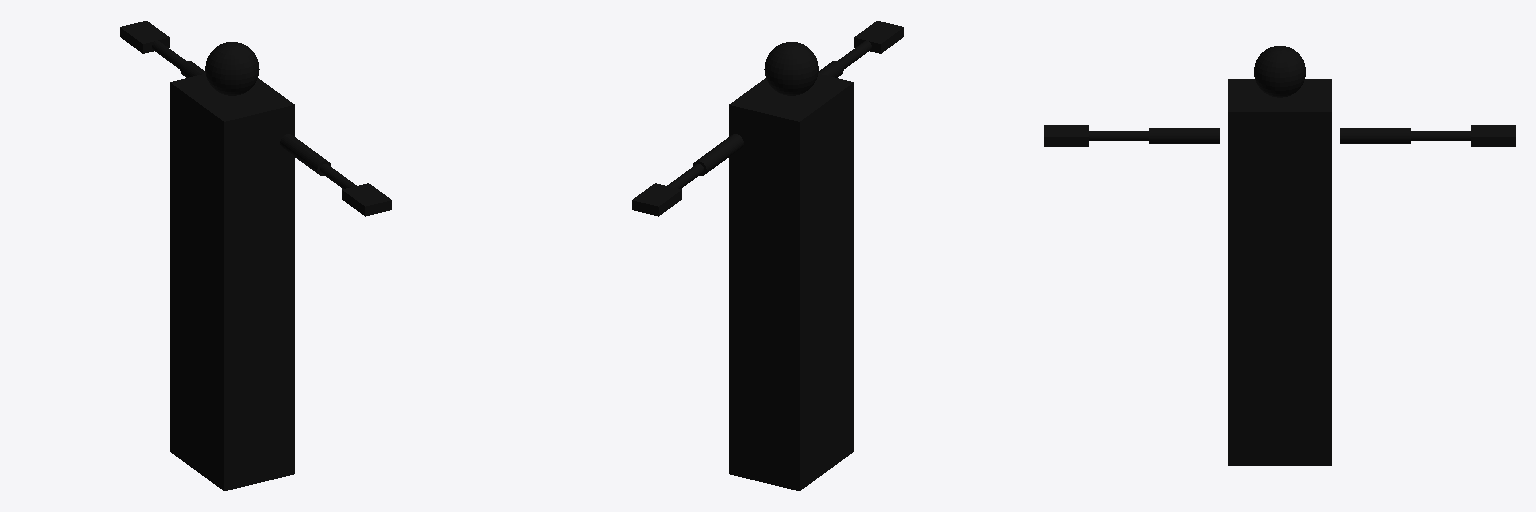
The robot description file, URDF, robot "human_model":
<!--URDF MODEL 48 DoFs-->

<robot name="human_model">

<material name="color">
    <color rgba="0.1 0.1 0.1 1"/>
</material>

    <!--LINKS-->
	<!--Link base (1)-->
	<link name="Truck">
        <inertial>
            <mass value="60.352"/>
            <origin xyz="0 0 0" rpy="0 0 0" />
            <inertia ixx="0.064101" iyy="0.023834" izz="0.07276" ixy="0" ixz="0" iyz="0"/>
        </inertial>

        <visual>
            <origin xyz="0 0 0" rpy="0 0 0" />
            <geometry>
                <box size="0.3 0.4 1.5"/>
            </geometry>
            <material name="color"/>
        </visual>

        <collision>
            <origin xyz="0 0 0" rpy="0 0 0" />
            <geometry>
                <box size="0.3 0.4 1.5"/>
            </geometry>
        </collision>
    </link>



    <link name="Head">
        <inertial>
            <mass value="2.8584"/>
            <origin xyz="0 0 0" rpy="0 0 0" />
            <inertia ixx="0.0144" iyy="0.0144" izz="0.0144" ixy="0" ixz="0" iyz="0"/>
        </inertial>

        <visual>
			
            <origin xyz="0 0 0" rpy="0 0 0" />
            <geometry>
                <sphere radius="0.1"/>
            </geometry>
            <material name="color"/>
        </visual>

        <collision>
            <origin xyz="0 0 0" rpy="0 0 0" />
            <geometry>
                <sphere radius="0.1"/>
            </geometry>
        </collision>
    </link>

    <joint name="head_to_truck" type="fixed">
        <origin xyz="0 0 0.85" rpy="0 0 0"/>
        <parent link="Truck"/>
        <child link="Head"/>
    </joint>


    <!-- ++++++++ -->
    <!-- + Left + -->
    <!-- ++++++++ -->

    <link name="LeftUpperArm_f1">
        <inertial>
            <mass value="2.382"/>
            <origin xyz="0 0 0" rpy="0 0 0" />
            <inertia ixx="0.015417" iyy="0.0010729" izz="0.015417" ixy="0" ixz="0" iyz="0"/>
        </inertial>
    </link>

	<link name="LeftUpperArm_f2">
        <inertial>
            <mass value="2.382"/>
            <origin xyz="0 0 0" rpy="0 0 0" />
            <inertia ixx="0.015417" iyy="0.0010729" izz="0.015417" ixy="0" ixz="0" iyz="0"/>
        </inertial>
    </link>

	<link name="LeftUpperArm">
        <inertial>
            <mass value="2.382"/>
            <origin xyz="0 0.1369 0" rpy="0 0 0" />
            <inertia ixx="0.015417" iyy="0.0010729" izz="0.015417" ixy="0" ixz="0" iyz="0"/>
        </inertial>

        <visual>
            <origin xyz="0 0.1369 0" rpy="1.5708 0 0" />
            <geometry>
                <cylinder length="0.27379" radius="0.030014"/>
            </geometry>
            <material name="color"/>
        </visual>

        <collision>
            <origin xyz="0 0.1369 0" rpy="1.5708 0 0" />
            <geometry>
                <cylinder length="0.27379" radius="0.030014"/>
            </geometry>
        </collision>
    </link>

    <link name="LeftForeArm_f1">
        <inertial>
            <mass value="1.588"/>
            <origin xyz="0     0.11359           0" rpy="0 0 0" />
            <inertia ixx="0.0069888" iyy="0.0003179" izz="0.0069888" ixy="0" ixz="0" iyz="0"/>
        </inertial>
    </link>
	<link name="LeftForeArm">
        <inertial>
            <mass value="1.588"/>
			<!--COM origin wrt jLeftElbow-->
            <origin xyz="0     0.11359           0" rpy="0 0 0" />
            <inertia ixx="0.0069888" iyy="0.0003179" izz="0.0069888" ixy="0" ixz="0" iyz="0"/>
        </inertial>

        <visual>
			<!--box origin wrt jLeftElbow. RPY rotated of pi/2.-->
            <origin xyz="0     0.11359           0" rpy="1.5708 0 0" />
            <geometry>
                <cylinder length="0.22718" radius="0.020009"/>
            </geometry>
            <material name="color"/>
        </visual>

        <collision>
			<!--box origin wrt jLeftElbow. RPY rotated of pi/2.-->
            <origin xyz="0     0.11359           0" rpy="1.5708 0 0" />
            <geometry>
                <cylinder length="0.22718" radius="0.020009"/>
            </geometry>
        </collision>

    </link>
    <link name="LeftHand_f1">
        <inertial>
            <mass value="0.4764"/>
            <origin xyz="0    0.086009           0" rpy="0 0 0" />
            <inertia ixx="0.0012383" iyy="0.00058568" izz="0.0016968" ixy="0" ixz="0" iyz="0"/>
        </inertial>
    </link>
	<link name="LeftHand">
        <inertial>
            <mass value="0.4764"/>
			<!--COM origin wrt jLeftWrist-->
            <origin xyz="0    0.086009           0" rpy="0 0 0" />
            <inertia ixx="0.0012383" iyy="0.00058568" izz="0.0016968" ixy="0" ixz="0" iyz="0"/>
        </inertial>

        <visual>
			<!--COM origin wrt jLeftWrist-->
            <origin xyz="0    0.086009           0" rpy="0 0 0" />
            <geometry>
                <box size="0.11468     0.17202    0.040019"/>
            </geometry>
            <material name="color"/>
        </visual>

        <collision>
			<!--COM origin wrt jLeftWrist-->
            <origin xyz="0    0.086009           0" rpy="0 0 0" />
            <geometry>
                <box size="0.11468     0.17202    0.040019"/>
            </geometry>
        </collision>

    </link>


    <joint name="jLeftShoulder_rotx" type="revolute">
        <origin xyz="0.1 0.23 0.625" rpy="0 0 0"/>
        <parent link="Truck"/>
        <child link="LeftUpperArm_f1"/>
        <dynamics damping="0.1" friction="0.0"/>
        <limit effort="30" velocity="1.0" lower="-1.5708" upper="2.35619" />
        <axis xyz="1 0 0" />
    </joint>
	<joint name="jLeftShoulder_roty" type="revolute">
        <origin xyz="0 0 0" rpy="0 0 0"/>
        <parent link="LeftUpperArm_f1"/>
        <child link="LeftUpperArm_f2"/>
        <dynamics damping="0.1" friction="0.0"/>
        <limit effort="30" velocity="1.0" lower="-1.5708" upper="1.5708" />
        <axis xyz="0 1 0" />
    </joint>
    <joint name="jLeftShoulder_rotz" type="revolute">
        <origin xyz="0 0 0" rpy="0 0 0"/>
        <parent link="LeftUpperArm_f2"/>
        <child link="LeftUpperArm"/>
        <dynamics damping="0.1" friction="0.0"/>
        <limit effort="30" velocity="1.0" lower="-3.14159" upper="0.785398" />
        <axis xyz="0 0 1" />
    </joint>

    <joint name="jLeftElbow_roty" type="revolute">
        <origin xyz="0     0.27379           0" rpy="0 0 0"/>
        <parent link="LeftUpperArm"/>
        <child link="LeftForeArm_f1"/>
        <dynamics damping="0.1" friction="0.0"/>
        <limit effort="30" velocity="1.0" lower="-1.5708" upper="1.48353" />
        <axis xyz="0 1 0" />
    </joint>
    <joint name="jLeftElbow_rotz" type="revolute">
        <origin xyz="0 0 0" rpy="0 0 0"/>
        <parent link="LeftForeArm_f1"/>
        <child link="LeftForeArm"/>
        <dynamics damping="0.1" friction="0.0"/>
        <limit effort="30" velocity="1.0" lower="-2.53073" upper="0" />
        <axis xyz="0 0 1" />
    </joint>
    <joint name="jLeftWrist_rotx" type="revolute">
        <origin xyz="0.000133     0.22718           0" rpy="0 0 0"/>
        <parent link="LeftForeArm"/>
        <child link="LeftHand_f1"/>
        <dynamics damping="0.1" friction="0.0"/>
        <limit effort="30" velocity="1.0" lower="-1.0472" upper="0.872665" />
        <axis xyz="1 0 0" />
    </joint>
	<joint name="jLeftWrist_rotz" type="revolute">
        <origin xyz="0 0 0" rpy="0 0 0"/>
        <parent link="LeftHand_f1"/>
        <child link="LeftHand"/>
        <dynamics damping="0.1" friction="0.0"/>
        <limit effort="30" velocity="1.0" lower="-0.349066" upper="0.523599" />
        <axis xyz="0 0 1" />
    </joint>


   
    <!-- +++++++++ -->
    <!-- + Right + -->
    <!-- +++++++++ -->
    <link name="RightUpperArm_f1">
        <inertial>
            <mass value="2.382"/>
            <origin xyz="0 0 0" rpy="0 0 0" />
            <inertia ixx="0.015417" iyy="0.0010729" izz="0.015417" ixy="0" ixz="0" iyz="0"/>
        </inertial>
    </link>
	<link name="RightUpperArm_f2">
        <inertial>
            <mass value="2.382"/>
            <origin xyz="0 0 0" rpy="0 0 0" />
            <inertia ixx="0.015417" iyy="0.0010729" izz="0.015417" ixy="0" ixz="0" iyz="0"/>
        </inertial>
    </link>
    <link name="RightUpperArm">
        <inertial>
            <mass value="2.382"/>
			<!--COM origin wrt jRightShoulder-->
            <origin xyz="0     -0.1369           0" rpy="0 0 0" />
            <inertia ixx="0.015417" iyy="0.0010729" izz="0.015417" ixy="0" ixz="0" iyz="0"/>
        </inertial>
        <visual>
            <origin xyz="0     -0.1369           0" rpy="1.5708 0 0" />
            <geometry>
                <cylinder length="0.27379" radius="0.030014"/>
            </geometry>
            <material name="color"/>
        </visual>

        <collision>
            <origin xyz="0     -0.1369           0" rpy="1.5708 0 0" />
            <geometry>
                <cylinder length="0.27379" radius="0.030014"/>
            </geometry>
        </collision>

    </link>

    <link name="RightForeArm_f1">
        <inertial>
            <mass value="1.588"/>
            <origin xyz="0 0 0" rpy="0 0 0" />
            <inertia ixx="0.0069888" iyy="0.0003179" izz="0.0069888" ixy="0" ixz="0" iyz="0"/>
        </inertial>
    </link>
	<link name="RightForeArm">
        <inertial>
            <mass value="1.588"/>
			<!--COM origin wrt jRightElbow-->
            <origin xyz="0    -0.11359           0" rpy="0 0 0" />
            <inertia ixx="0.0069888" iyy="0.0003179" izz="0.0069888" ixy="0" ixz="0" iyz="0"/>
        </inertial>

        <visual>
			<!--box origin wrt jRightElbow. RPY rotated of pi/2.-->
            <origin xyz="0    -0.11359           0" rpy="1.5708 0 0" />
            <geometry>
                <cylinder length="0.22718" radius="0.020009"/>
            </geometry>
            <material name="color"/>
        </visual>

        <collision>
			<!--box origin wrt jRightElbow. RPY rotated of pi/2.-->
            <origin xyz="0    -0.11359           0" rpy="1.5708 0 0" />
            <geometry>
                <cylinder length="0.22718" radius="0.020009"/>
            </geometry>
        </collision>

    </link>
	<link name="RightHand_f1">
        <inertial>
            <mass value="0.4764"/>
            <origin xyz="0 0 0" rpy="0 0 0" />
            <inertia ixx="0.0012383" iyy="0.00058568" izz="0.0016968" ixy="0" ixz="0" iyz="0"/>
        </inertial>
    </link>
	<link name="RightHand">
        <inertial>
            <mass value="0.4764"/>
			<!--COM origin wrt jRightWrist-->
            <origin xyz="0   -0.086009           0" rpy="0 0 0" />
            <inertia ixx="0.0012383" iyy="0.00058568" izz="0.0016968" ixy="0" ixz="0" iyz="0"/>
        </inertial>

        <visual>
			<!--box origin wrt jRightWrist-->
            <origin xyz="0   -0.086009           0" rpy="0 0 0" />
            <geometry>
                <box size="0.11468     0.17202    0.040019"/>
            </geometry>
            <material name="color"/>
        </visual>

        <collision>
			<!--box origin wrt jRightWrist-->
            <origin xyz="0   -0.086009           0" rpy="0 0 0" />
            <geometry>
                <box size="0.11468     0.17202    0.040019"/>
            </geometry>
        </collision>
        </link>



    <joint name="jRightShoulder_rotx" type="revolute">
        <origin xyz="0.1 -0.23 0.625" rpy="0 0 0"/>
        <parent link="Truck"/>
        <child link="RightUpperArm_f1"/>
        <dynamics damping="0.1" friction="0.0"/>
        <limit effort="30" velocity="1.0" lower="-2.35619" upper="1.5708" />
        <axis xyz="1 0 0" />
    </joint>

    <transmission name="rs_tran_1">
      <type>transmission_interface/SimpleTransmission</type>
      <joint name="jRightShoulder_rotx">
        <hardwareInterface>hardware_interface/EffortJointInterface</hardwareInterface>
      </joint>
      <actuator name="rs_motor_1">
        <hardwareInterface>hardware_interface/EffortJointInterface</hardwareInterface>
        <mechanicalReduction>1</mechanicalReduction>
      </actuator>
    </transmission>

	<joint name="jRightShoulder_roty" type="revolute">
        <origin xyz="0 0 0" rpy="0 0 0"/>
        <parent link="RightUpperArm_f1"/>
        <child link="RightUpperArm_f2"/>
        <dynamics damping="0.1" friction="0.0"/>
        <limit effort="30" velocity="1.0" lower="-1.5708" upper="1.5708" />
        <axis xyz="0 1 0" />
    </joint>
    <joint name="jRightShoulder_rotz" type="revolute">
        <origin xyz="0 0 0" rpy="0 0 0"/>
        <parent link="RightUpperArm_f2"/>
        <child link="RightUpperArm"/>
        <dynamics damping="0.1" friction="0.0"/>
        <limit effort="30" velocity="1.0" lower="-0.785398" upper="3.14159" />
        <axis xyz="0 0 1" />
    </joint>
    <joint name="jRightElbow_roty" type="revolute">
        <origin xyz="0    -0.27379           0" rpy="0 0 0"/>
        <parent link="RightUpperArm"/>
        <child link="RightForeArm_f1"/>
        <dynamics damping="0.1" friction="0.0"/>
        <limit effort="30" velocity="1.0" lower="-1.5708" upper="1.48353" />
        <axis xyz="0 1 0" />
    </joint>
	<joint name="jRightElbow_rotz" type="revolute">
        <origin xyz="0 0 0" rpy="0 0 0"/>
        <parent link="RightForeArm_f1"/>
        <child link="RightForeArm"/>
        <dynamics damping="0.1" friction="0.0"/>
        <limit effort="30" velocity="1.0" lower="0" upper="2.53073" />
        <axis xyz="0 0 1" />
    </joint>
	<joint name="jRightWrist_rotx" type="revolute">
        <origin xyz="0.000133    -0.22718           0" rpy="0 0 0"/>
        <parent link="RightForeArm"/>
        <child link="RightHand_f1"/>
        <dynamics damping="0.1" friction="0.0"/>
        <limit effort="30" velocity="1.0" lower="-0.872665" upper="1.0472" />
        <axis xyz="1 0 0" />
    </joint>
	<joint name="jRightWrist_rotz" type="revolute">
        <origin xyz="0 0 0" rpy="0 0 0"/>
        <parent link="RightHand_f1"/>
        <child link="RightHand"/>
        <dynamics damping="0.1" friction="0.0"/>
        <limit effort="30" velocity="1.0" lower="-0.523599" upper="0.349066" />
        <axis xyz="0 0 1" />
    </joint>


        <gazebo>
            <plugin name="gazebo_ros_control" filename="libgazebo_ros_control.so"> 
                <robotNamespace>/simplified_human</robotNamespace>
                <robotSimType>gazebo_ros_control/DefaultRobotHWSim</robotSimType>
                <legacyModeNS>true</legacyModeNS>
            </plugin>
        </gazebo>
</robot>

--- Facts derived from the render (not from the file) ---
3 views of the same robot in one strip: view 1: azimuth 30°, elevation 25°; view 2: azimuth 150°, elevation 25°; view 3: azimuth 270°, elevation 25° (orthographic).
Model human_model with 16 links and 15 joints (14 revolute, 1 fixed), rooted at Truck, posed all joints at 0.
Links seen in each view (by area): view 1: Truck, Head, RightHand, LeftHand, RightUpperArm; view 2: Truck, Head, LeftHand, RightHand, LeftUpperArm; view 3: Truck, Head, LeftUpperArm, RightUpperArm, LeftHand, RightHand, LeftForeArm, RightForeArm.
Link boxes in pixels (bbox=[...]): Truck: bbox=[170, 74, 294, 490]; Head: bbox=[205, 42, 259, 95]; RightHand: bbox=[342, 183, 391, 216]; LeftHand: bbox=[120, 21, 169, 53]; RightUpperArm: bbox=[280, 134, 330, 175]; Truck: bbox=[729, 74, 853, 490]; Head: bbox=[764, 42, 818, 95]; LeftHand: bbox=[632, 183, 681, 216]; RightHand: bbox=[854, 21, 903, 53]; LeftUpperArm: bbox=[693, 134, 743, 175]; Truck: bbox=[1228, 79, 1331, 465]; Head: bbox=[1254, 46, 1305, 97]; LeftUpperArm: bbox=[1340, 128, 1410, 143]; RightUpperArm: bbox=[1149, 128, 1219, 143]; LeftHand: bbox=[1471, 125, 1515, 146]; RightHand: bbox=[1044, 125, 1088, 146]; LeftForeArm: bbox=[1411, 131, 1470, 140]; RightForeArm: bbox=[1089, 131, 1148, 140].
Bounding box of the posed robot: 0.3075 × 1.81 × 1.7 m (x, y, z).
Geometry: primitives only (box / cylinder / sphere), no mesh files.